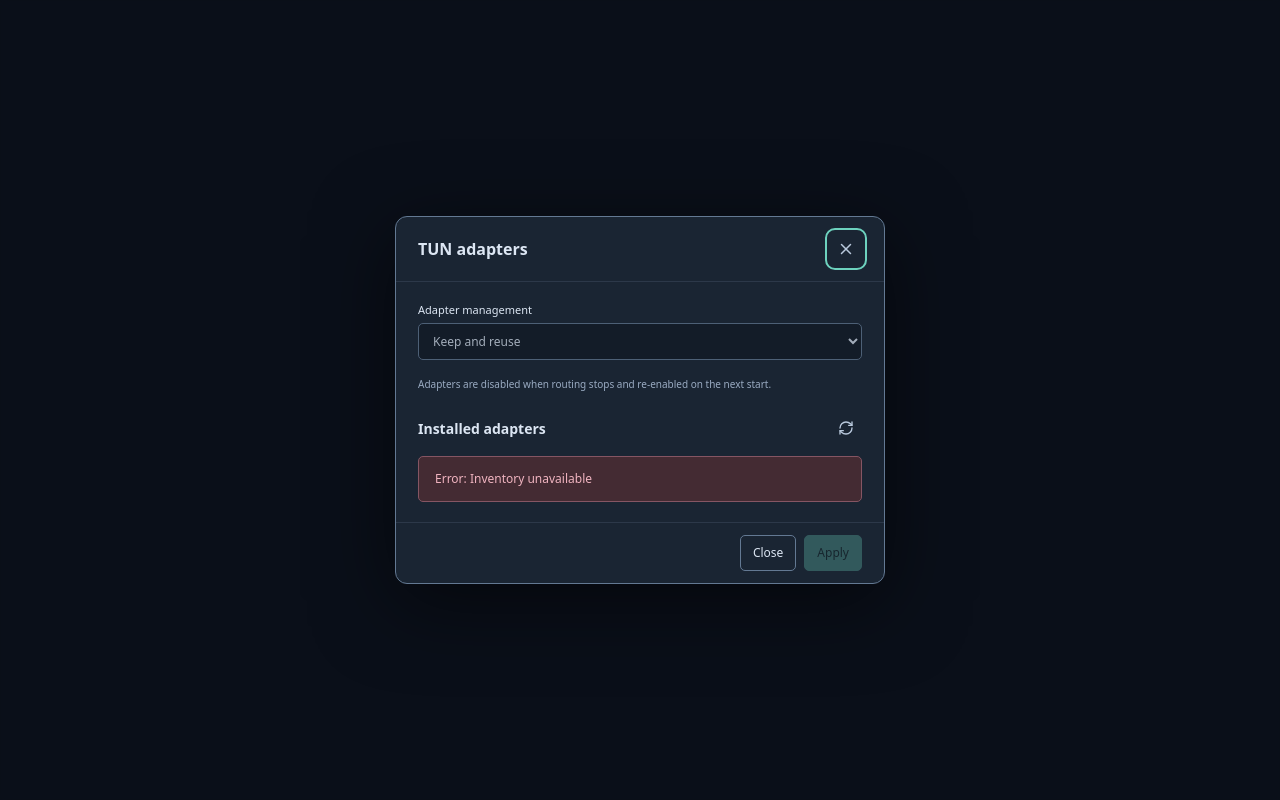
Test: requires a successful new inventory before editing after a failed reconnection refresh
The image size is (1280, 800).
Expected: the message "Error: Inventory unavailable" is shown, left=418, top=456, right=862, bottom=502
Expected: the text "WayrillTUN" is not shown
Click the button named "Refresh TUN adapters" at [846, 428], box left=830, top=412, right=862, bottom=444
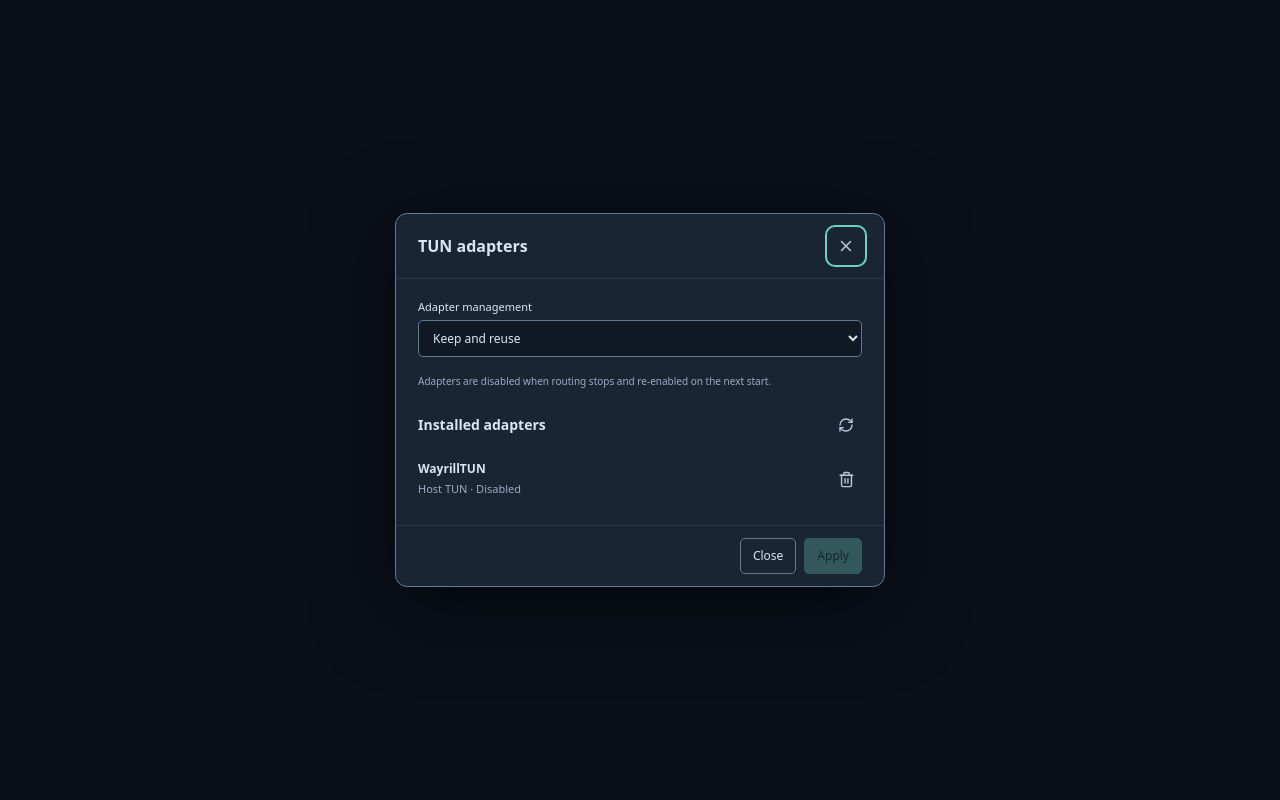
Result: the message "Error: Inventory unavailable" is gone
Result: the dropdown labelled "Adapter management" is enabled at left=418, top=320, right=862, bottom=357
Result: the text "WayrillTUN" is shown at left=418, top=460, right=486, bottom=477
